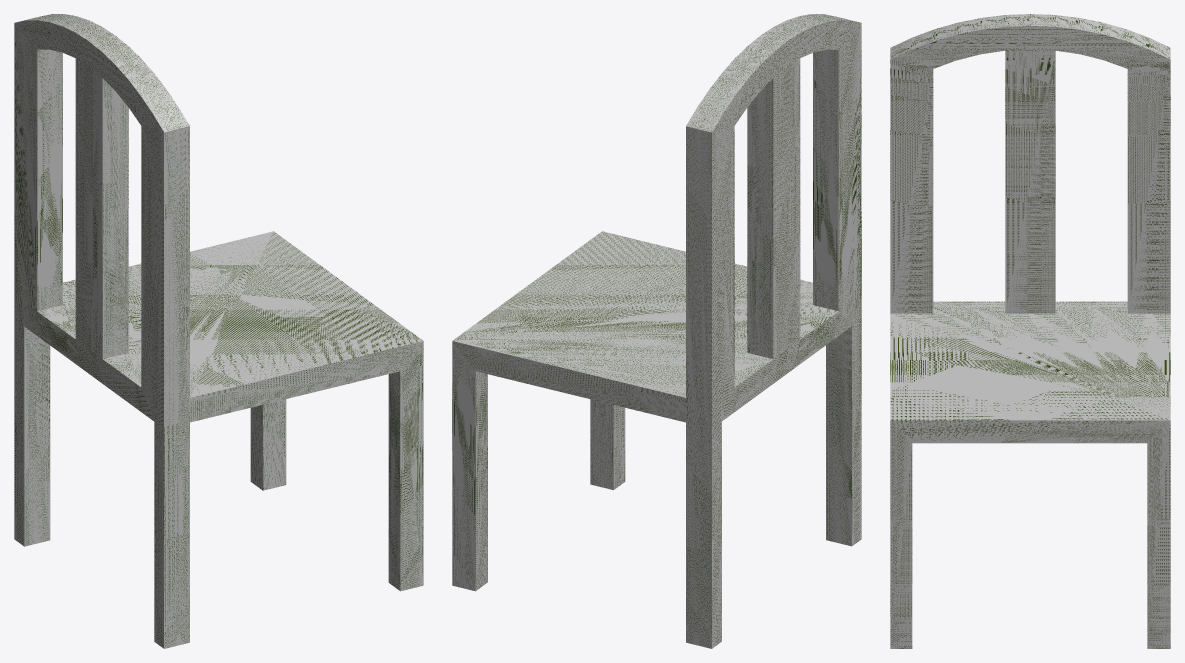
3 renders of one model, left to right at view 1: azimuth 30°, elevation 25°; view 2: azimuth 150°, elevation 25°; view 3: azimuth 270°, elevation 25°, orthographic. The views are drawn at different scales.
Parts seen in each view (by area): view 1: mesh1_mesh1-geometry; view 2: mesh1_mesh1-geometry; view 3: mesh1_mesh1-geometry.
Part boxes in pixels (<box>): mesh1_mesh1-geometry: <box>14,14,423,648</box>; mesh1_mesh1-geometry: <box>452,14,861,648</box>; mesh1_mesh1-geometry: <box>890,14,1170,648</box>.
Size of the model in its own units: 0.4037 by 0.821 by 0.4037.
